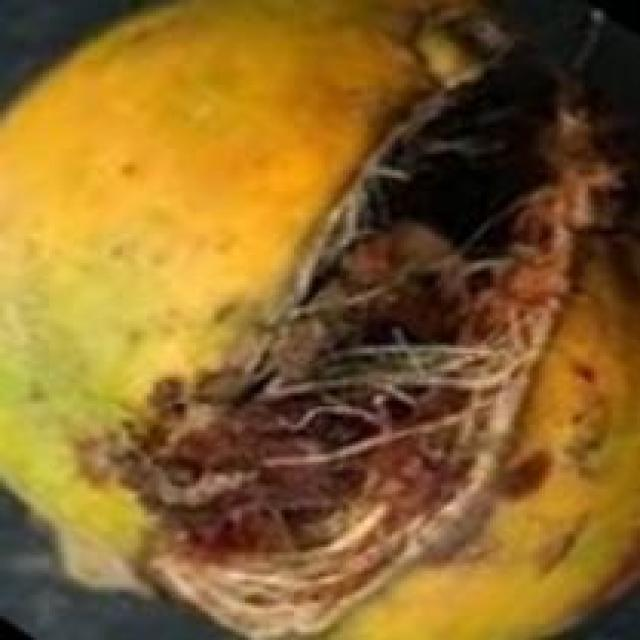damaged: (0, 0, 634, 637)
